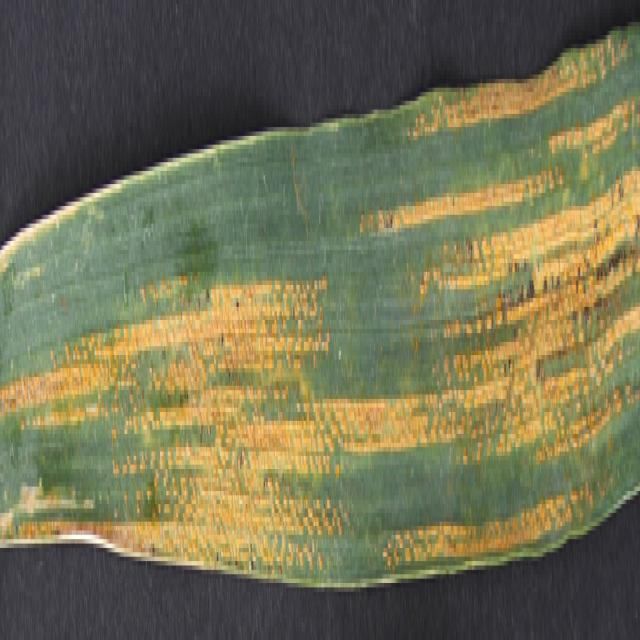leaf rust: (2, 35, 638, 601)
